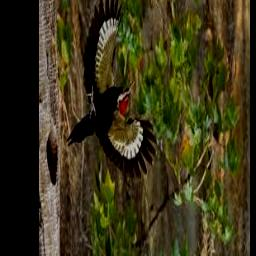Woodpecker: (67, 0, 159, 182)
